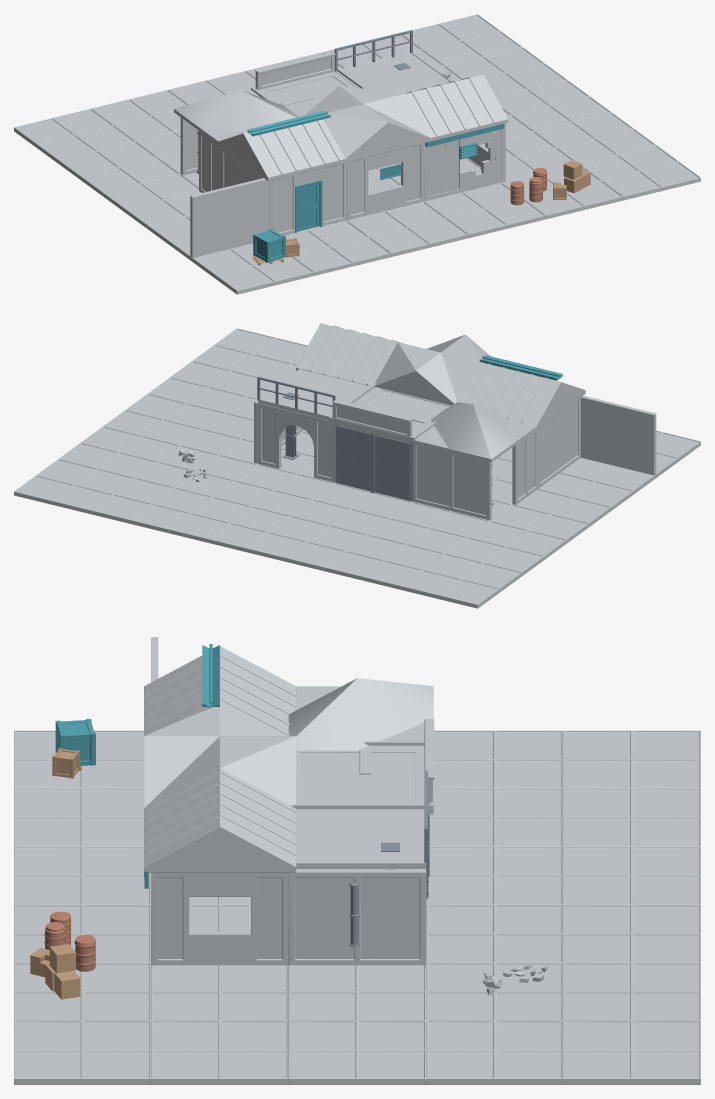
The model's file is ModKit_Industrial_Outpost.glb.
3 renders of one model, top to bottom at view 1: azimuth 30°, elevation 25°; view 2: azimuth 150°, elevation 25°; view 3: azimuth 270°, elevation 25°, orthographic. The views are drawn at different scales.
Visible parts, largest first — view 1: SM_Roof_Valley_4m_01, SM_Wall_Corner_4m_01, SM_Roof_Pitched_4m_01, SM_Roof_Pitched_4m_02, SM_Wall_Window_4m_01, SM_Floor_4m_11, SM_Floor_4m_26, SM_Roof_Corner_4m_01, SM_Floor_4m_04, SM_Floor_4m_05, SM_Floor_4m_16, SM_Wall_Damaged_4m_01 (+28 smaller); view 2: SM_Wall_Corner_4m_01, SM_Roof_Valley_4m_01, SM_Wall_Straight_4m_01, SM_Roof_Pitched_4m_01, SM_Wall_Reinforced_4m_01, SM_Roof_Corner_4m_01, SM_Roof_Pitched_4m_02, SM_Floor_4m_05, SM_Floor_4m_10, SM_Floor_4m_15, SM_Floor_4m_30, SM_Floor_4m_25 (+26 smaller); view 3: SM_Roof_Pitched_4m_02, SM_Wall_Straight_4m_02, SM_Wall_Window_4m_02, SM_Roof_Valley_4m_01, SM_Floor_4m_28, SM_Floor_4m_26, SM_Floor_4m_27, SM_Floor_4m_29, SM_Floor_4m_30, SM_Roof_Corner_4m_01, SM_Floor_4m_05, SM_Floor_4m_10 (+25 smaller).
Boxes of the visible parts, x1,y1,x2,y2 form: SM_Roof_Valley_4m_01: (304, 86, 430, 160); SM_Wall_Corner_4m_01: (190, 147, 269, 257); SM_Roof_Pitched_4m_01: (218, 119, 353, 180); SM_Roof_Pitched_4m_02: (398, 74, 508, 143); SM_Wall_Window_4m_01: (347, 143, 424, 220); SM_Floor_4m_11: (347, 201, 468, 256); SM_Floor_4m_26: (582, 145, 700, 200); SM_Roof_Corner_4m_01: (174, 89, 298, 144); SM_Floor_4m_04: (58, 141, 179, 196); SM_Floor_4m_05: (14, 108, 135, 163); SM_Floor_4m_16: (425, 182, 546, 237); SM_Wall_Damaged_4m_01: (424, 129, 501, 201); SM_Wall_Corner_4m_01: (538, 395, 656, 488); SM_Roof_Valley_4m_01: (375, 334, 490, 405); SM_Wall_Straight_4m_01: (412, 443, 491, 520); SM_Roof_Pitched_4m_01: (456, 361, 585, 429); SM_Wall_Reinforced_4m_01: (335, 424, 412, 501); SM_Roof_Corner_4m_01: (406, 402, 540, 462); SM_Roof_Pitched_4m_02: (296, 323, 401, 386); SM_Floor_4m_05: (400, 553, 522, 608); SM_Floor_4m_10: (323, 534, 444, 589); SM_Floor_4m_15: (246, 515, 367, 570); SM_Floor_4m_30: (14, 459, 135, 514); SM_Floor_4m_25: (91, 478, 212, 532); SM_Roof_Pitched_4m_02: (144, 768, 296, 872); SM_Wall_Straight_4m_02: (288, 869, 426, 965); SM_Wall_Window_4m_02: (151, 872, 288, 965); SM_Roof_Valley_4m_01: (144, 704, 296, 808); SM_Floor_4m_28: (288, 1021, 426, 1084); SM_Floor_4m_26: (14, 1021, 151, 1084); SM_Floor_4m_27: (151, 1021, 288, 1084); SM_Floor_4m_29: (426, 1021, 563, 1084); SM_Floor_4m_30: (563, 1021, 700, 1084); SM_Roof_Corner_4m_01: (288, 678, 433, 750); SM_Floor_4m_05: (563, 730, 700, 788); SM_Floor_4m_10: (563, 788, 700, 846).
Size of the model in its own units: 24 by 4.85 by 20.
